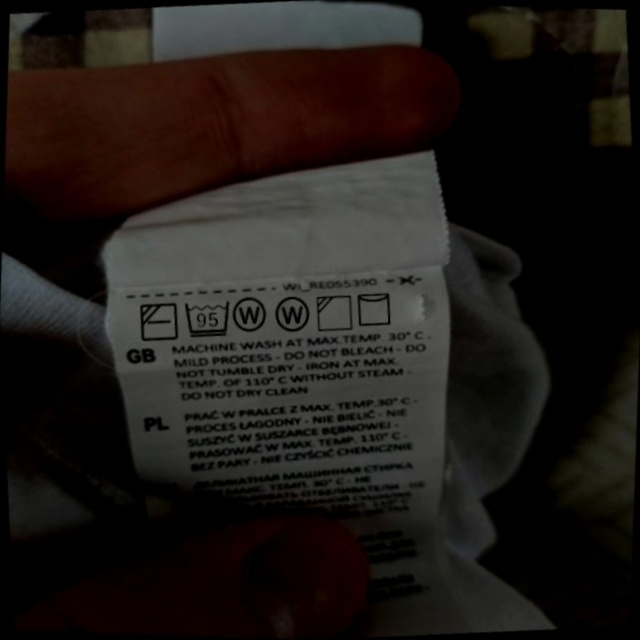95C: (180, 295, 235, 342)
dry_flat_in_shade: (135, 297, 182, 346)
line_dry: (352, 286, 398, 331)
shade_dry: (312, 290, 357, 336)
wet_clean: (271, 292, 314, 338), (230, 290, 272, 337)
